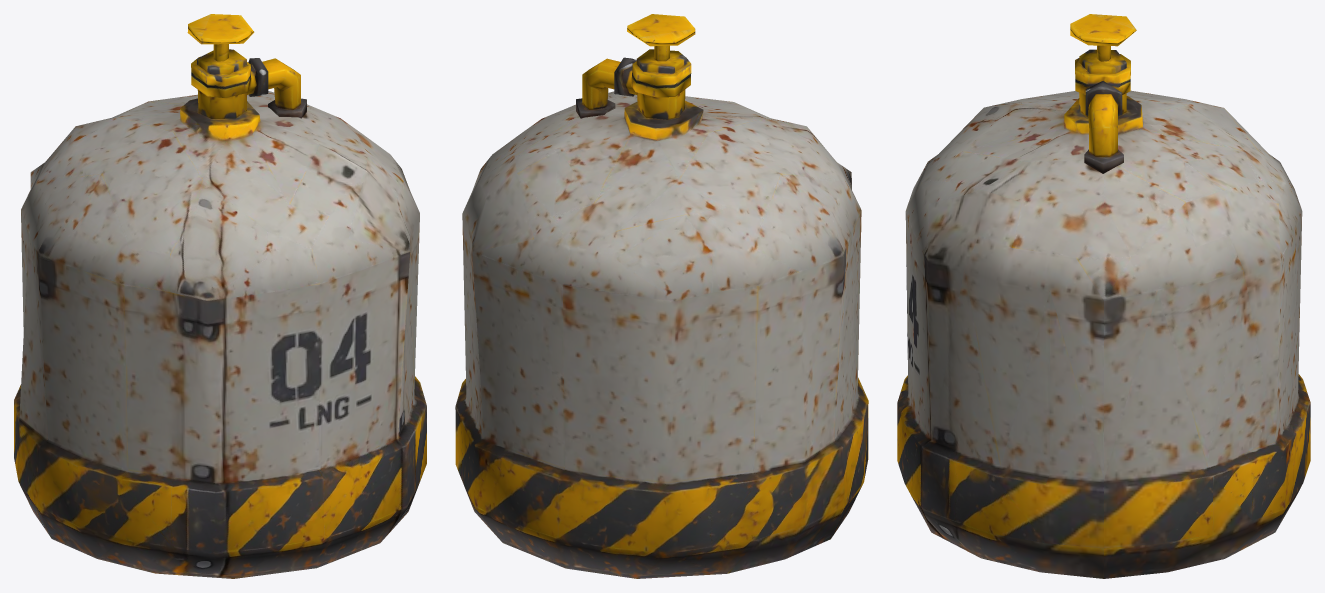
The model's file is fuel-tank-2.glb.
3 renders of one model, left to right at view 1: azimuth 30°, elevation 25°; view 2: azimuth 150°, elevation 25°; view 3: azimuth 270°, elevation 25°, orthographic.
Visible parts, largest first — view 1: geometry_0; view 2: geometry_0; view 3: geometry_0.
Boxes of the visible parts, box(x1,y1,x2,y2) form: geometry_0: box(14, 14, 426, 578); geometry_0: box(455, 14, 868, 578); geometry_0: box(897, 14, 1310, 578).
Size of the model in its own units: 0.7696 by 0.9512 by 0.7583.
1 material, 1 textured.
